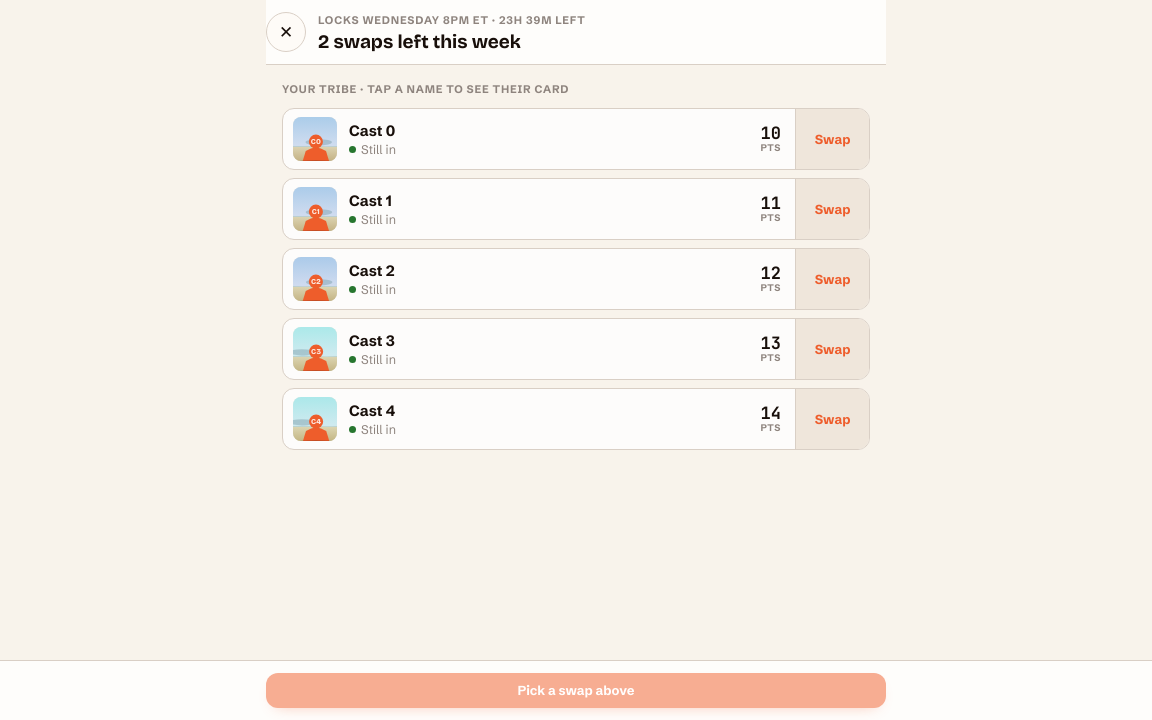
it: SwapSheet › pre-merge: staging both swaps locks the rest of the tribe
Step 1. Click the 1st button "Swap" → (832, 139), box x1=795 y1=109 x2=869 y2=169
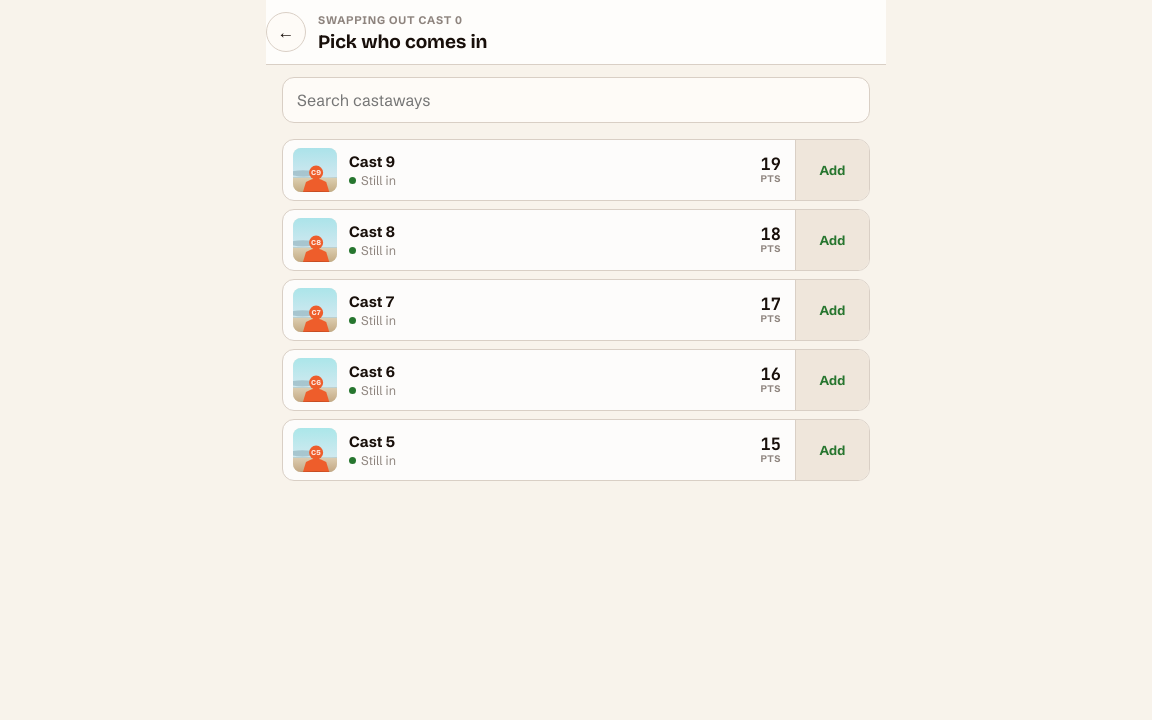
Step 2. Click the 1st button "Add" → (832, 170), box x1=795 y1=140 x2=869 y2=200
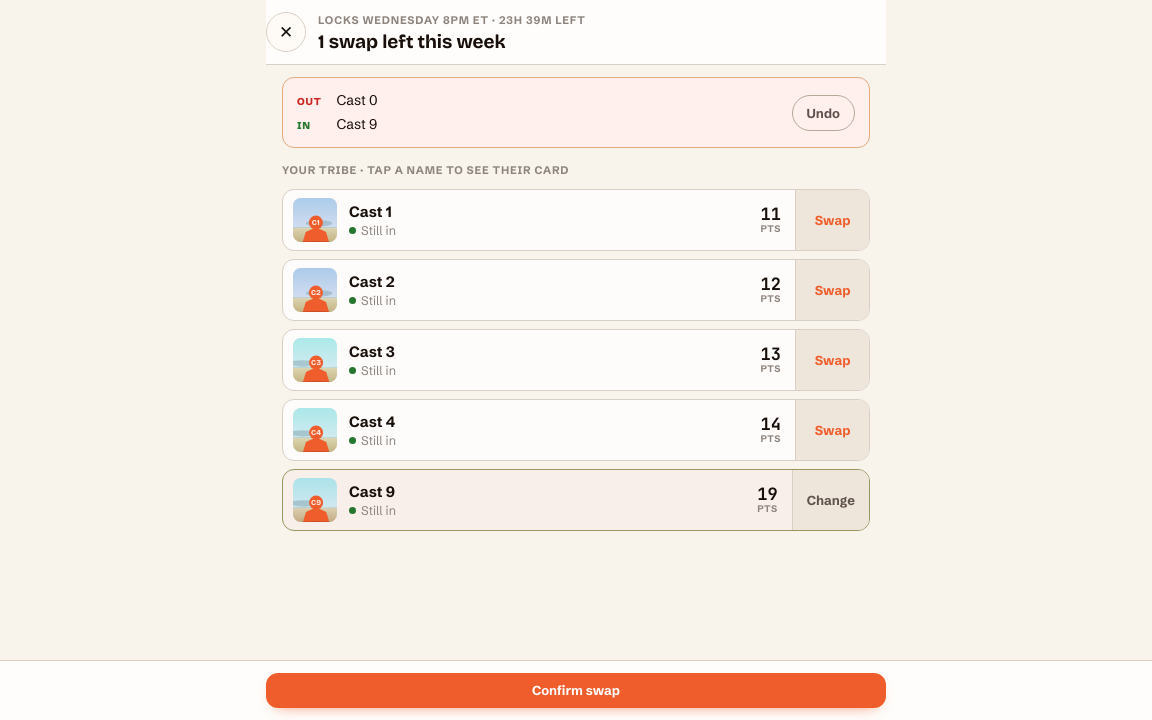
Step 3. Click the 1st button "Swap" → (832, 220), box x1=795 y1=190 x2=869 y2=250
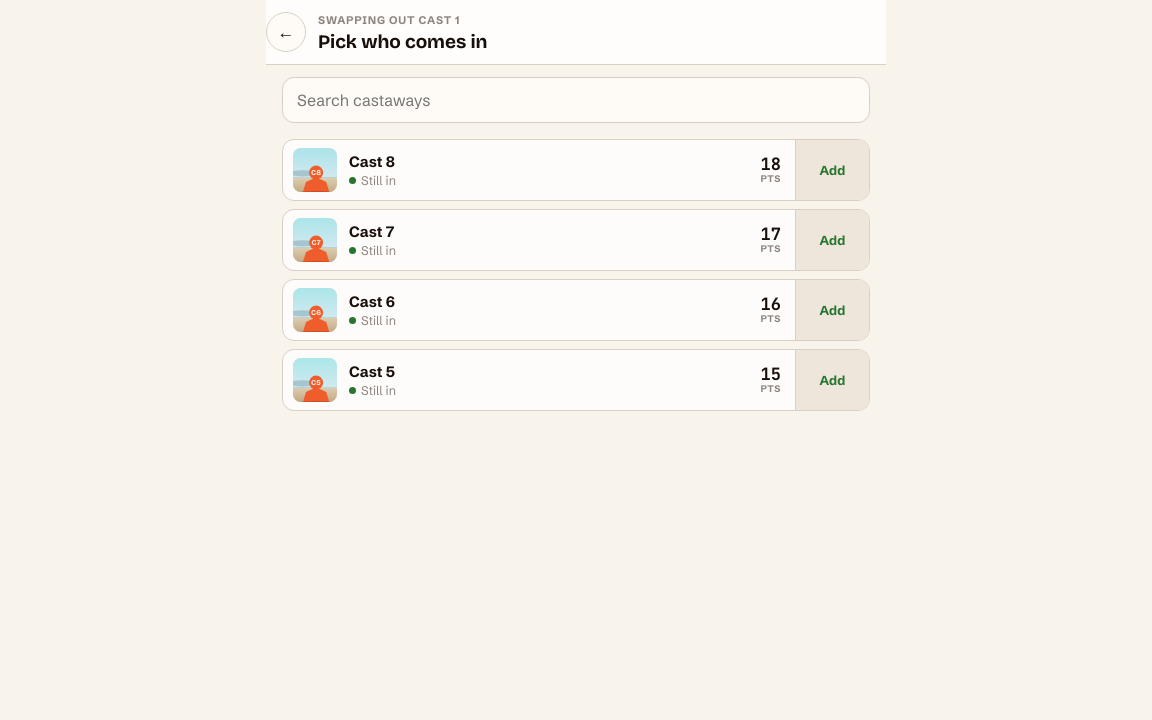
Step 4. Click the 1st button "Add" → (832, 170), box x1=795 y1=140 x2=869 y2=200
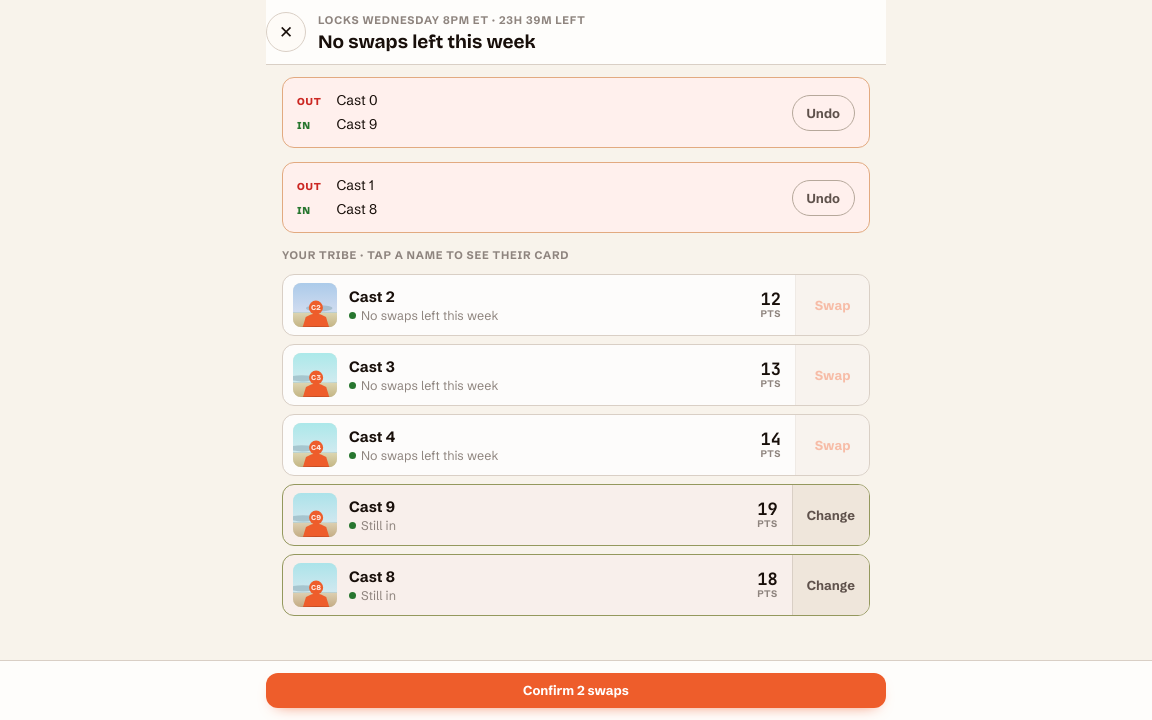
Expected: the 1st button "Swap" is disabled, x1=795 y1=275 x2=869 y2=335
Expected: the 1st button "Change" is enabled, x1=792 y1=485 x2=869 y2=545
